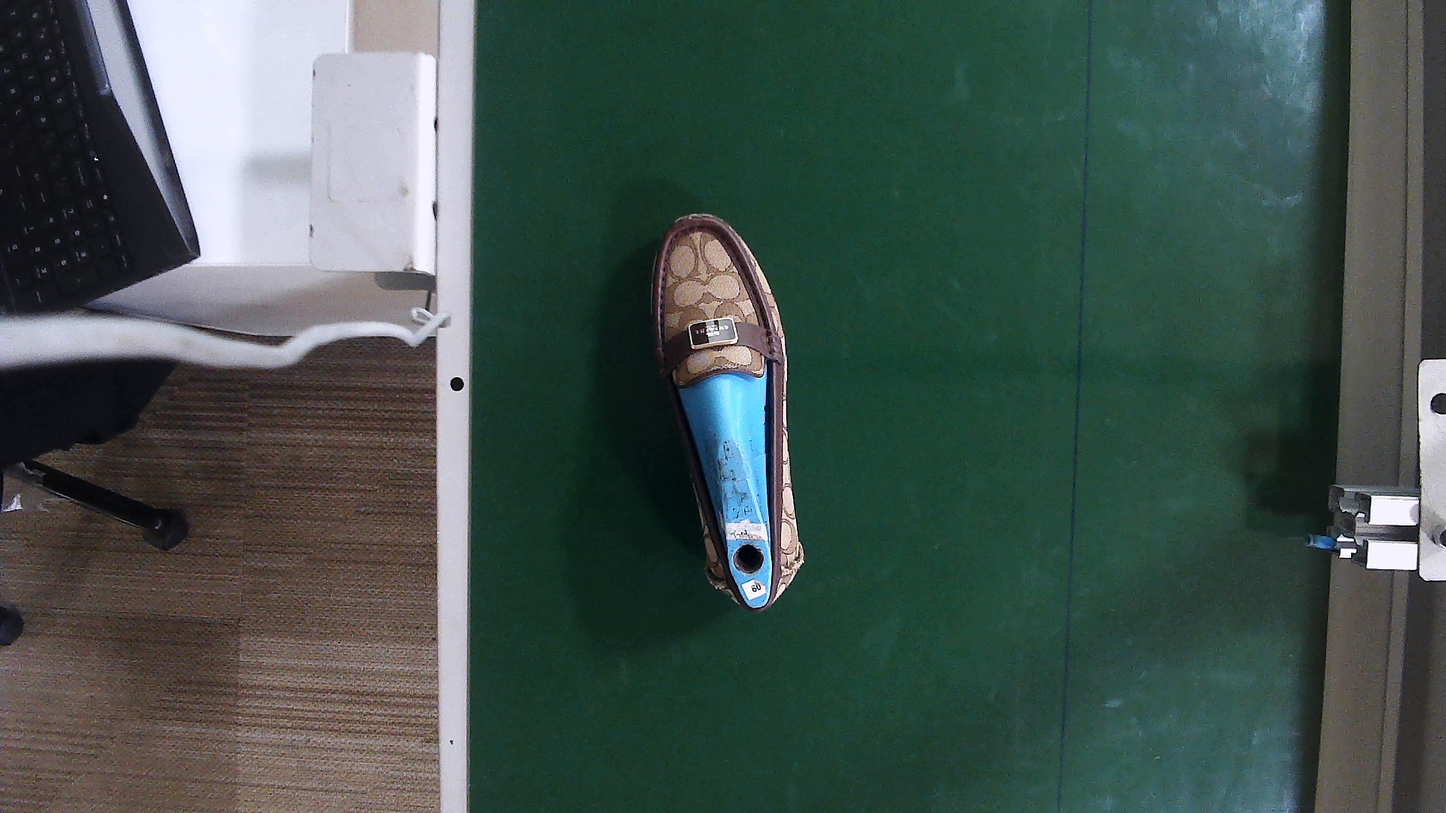shoe: (657, 215, 804, 610)
